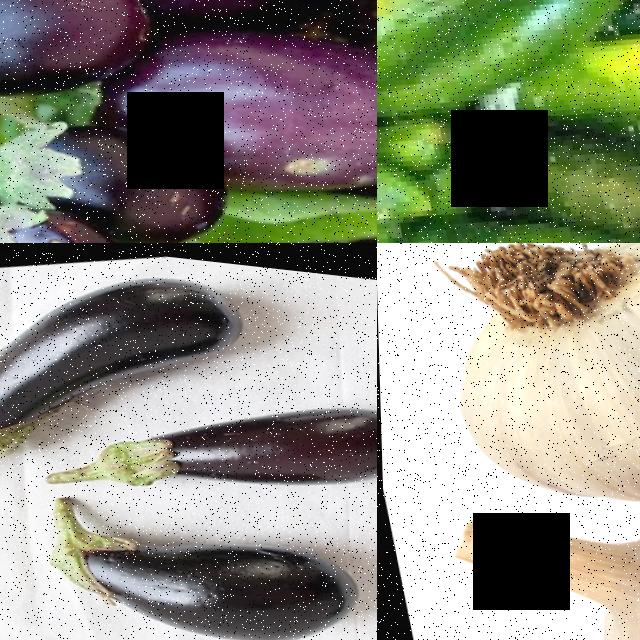cucumber: (467, 80, 640, 243), (495, 0, 640, 157)
eggplant: (0, 243, 259, 469), (27, 479, 369, 640), (76, 357, 377, 525), (168, 0, 377, 209), (0, 90, 214, 243), (0, 0, 151, 127), (111, 0, 377, 48), (0, 187, 118, 243)
garlic: (412, 243, 640, 541)
